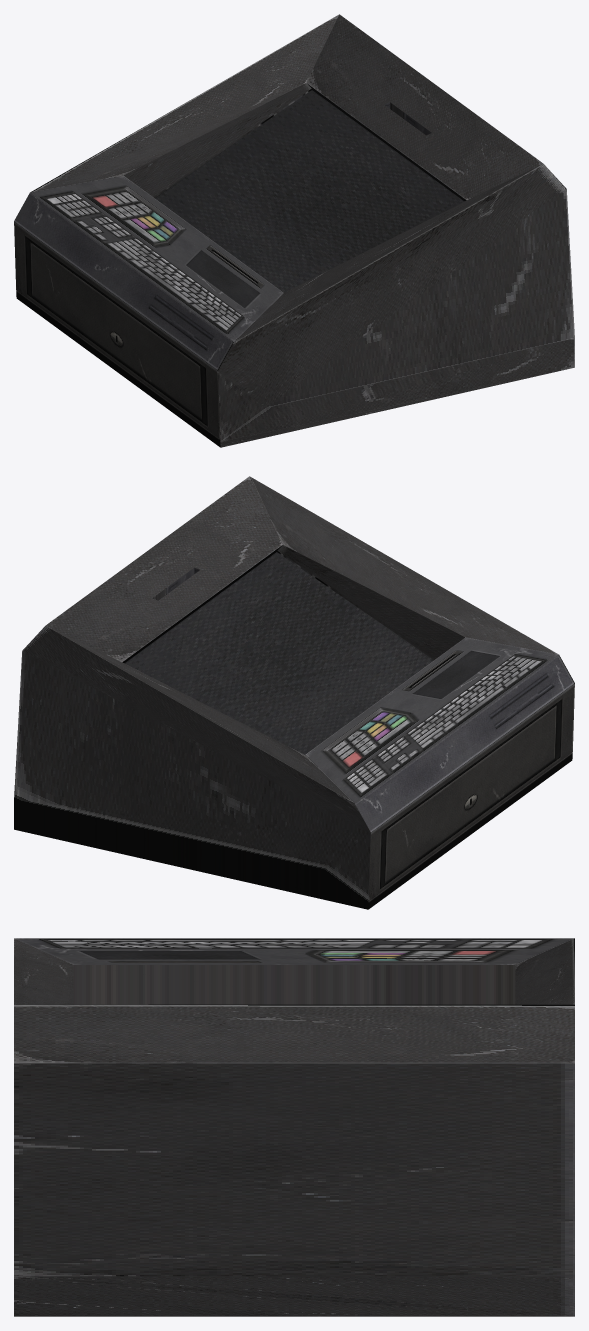
Rendered from caja_registradora.glb.
3 views of the same model, one above another, from view 1: azimuth 30°, elevation 25°; view 2: azimuth 150°, elevation 25°; view 3: azimuth 270°, elevation 25° (orthographic). The views are drawn at different scales.
Visible parts, largest first — view 1: caja_registradora; view 2: caja_registradora; view 3: caja_registradora.
Part boxes in pixels (left/top/right/bottom): caja_registradora: left=14, top=14, right=574, bottom=447; caja_registradora: left=14, top=476, right=574, bottom=909; caja_registradora: left=14, top=938, right=574, bottom=1316.
Size of the model in its own units: 0.3678 by 0.2085 by 0.3642.
1 material, 1 textured.
